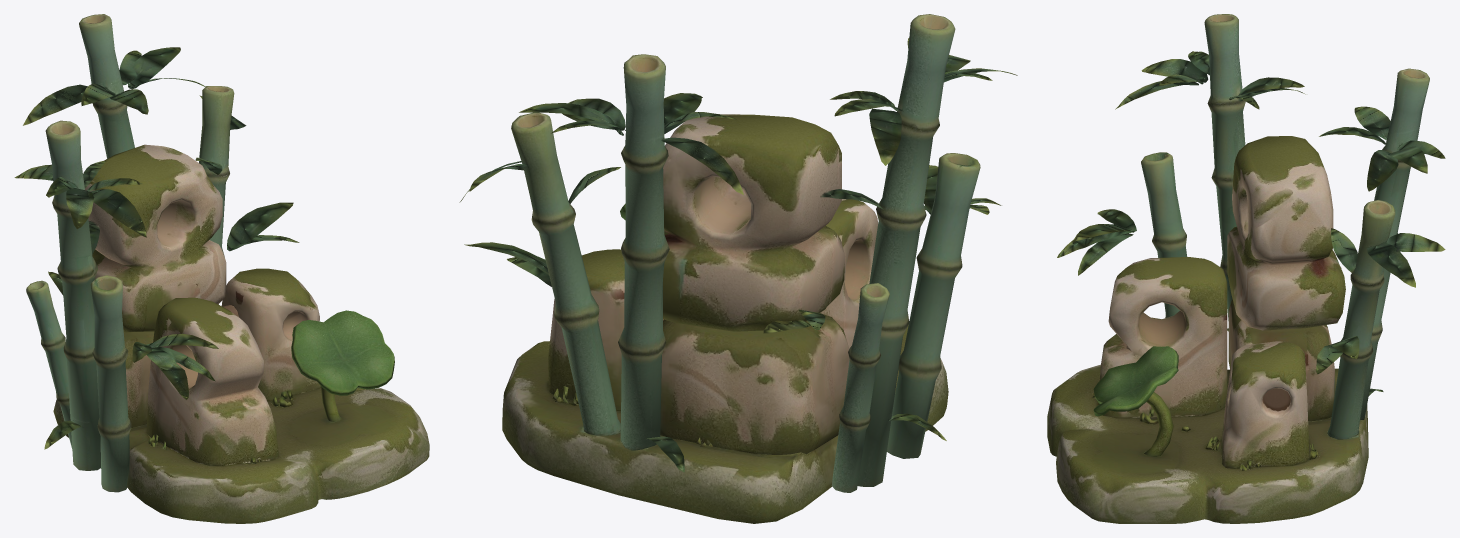
File: tripo_convert_436b4163-18cc-42b5-ba29-eb154f2fbe1e.fbx
3 views of the same model, side by side, from view 1: azimuth 30°, elevation 25°; view 2: azimuth 150°, elevation 25°; view 3: azimuth 270°, elevation 25° (orthographic). The views are drawn at different scales.
Parts seen in each view (by area): view 1: tripo_node_436b4163; view 2: tripo_node_436b4163; view 3: tripo_node_436b4163.
Boxes of the visible parts, x1,y1,x2,y2 form: tripo_node_436b4163: (14,14,429,523); tripo_node_436b4163: (459,14,1017,523); tripo_node_436b4163: (1047,14,1445,523).
Bounding box in the file's own units: 0.9785 × 0.998 × 0.9902.
1 material, 1 textured.
